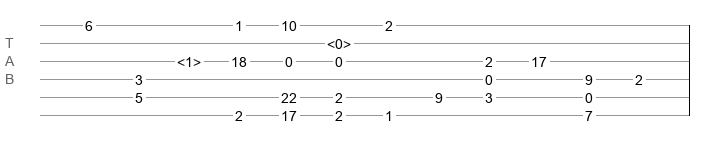0: (285, 54, 293, 64), (335, 54, 343, 64), (485, 72, 493, 82), (585, 90, 593, 100)
1: (235, 18, 243, 28), (385, 108, 393, 118)
10: (281, 18, 297, 28)
17: (281, 108, 297, 118), (531, 54, 547, 64)
18: (231, 54, 247, 64)
2: (235, 108, 243, 118), (335, 90, 343, 100), (335, 108, 343, 118), (385, 18, 393, 28), (485, 54, 493, 64), (635, 72, 643, 82)
22: (281, 90, 297, 100)
3: (135, 72, 143, 82), (485, 90, 493, 100)
5: (135, 90, 143, 100)
6: (85, 18, 93, 28)
7: (585, 108, 593, 118)
9: (435, 90, 443, 100), (585, 72, 593, 82)
harmonic: (177, 54, 201, 64), (327, 36, 351, 46)
